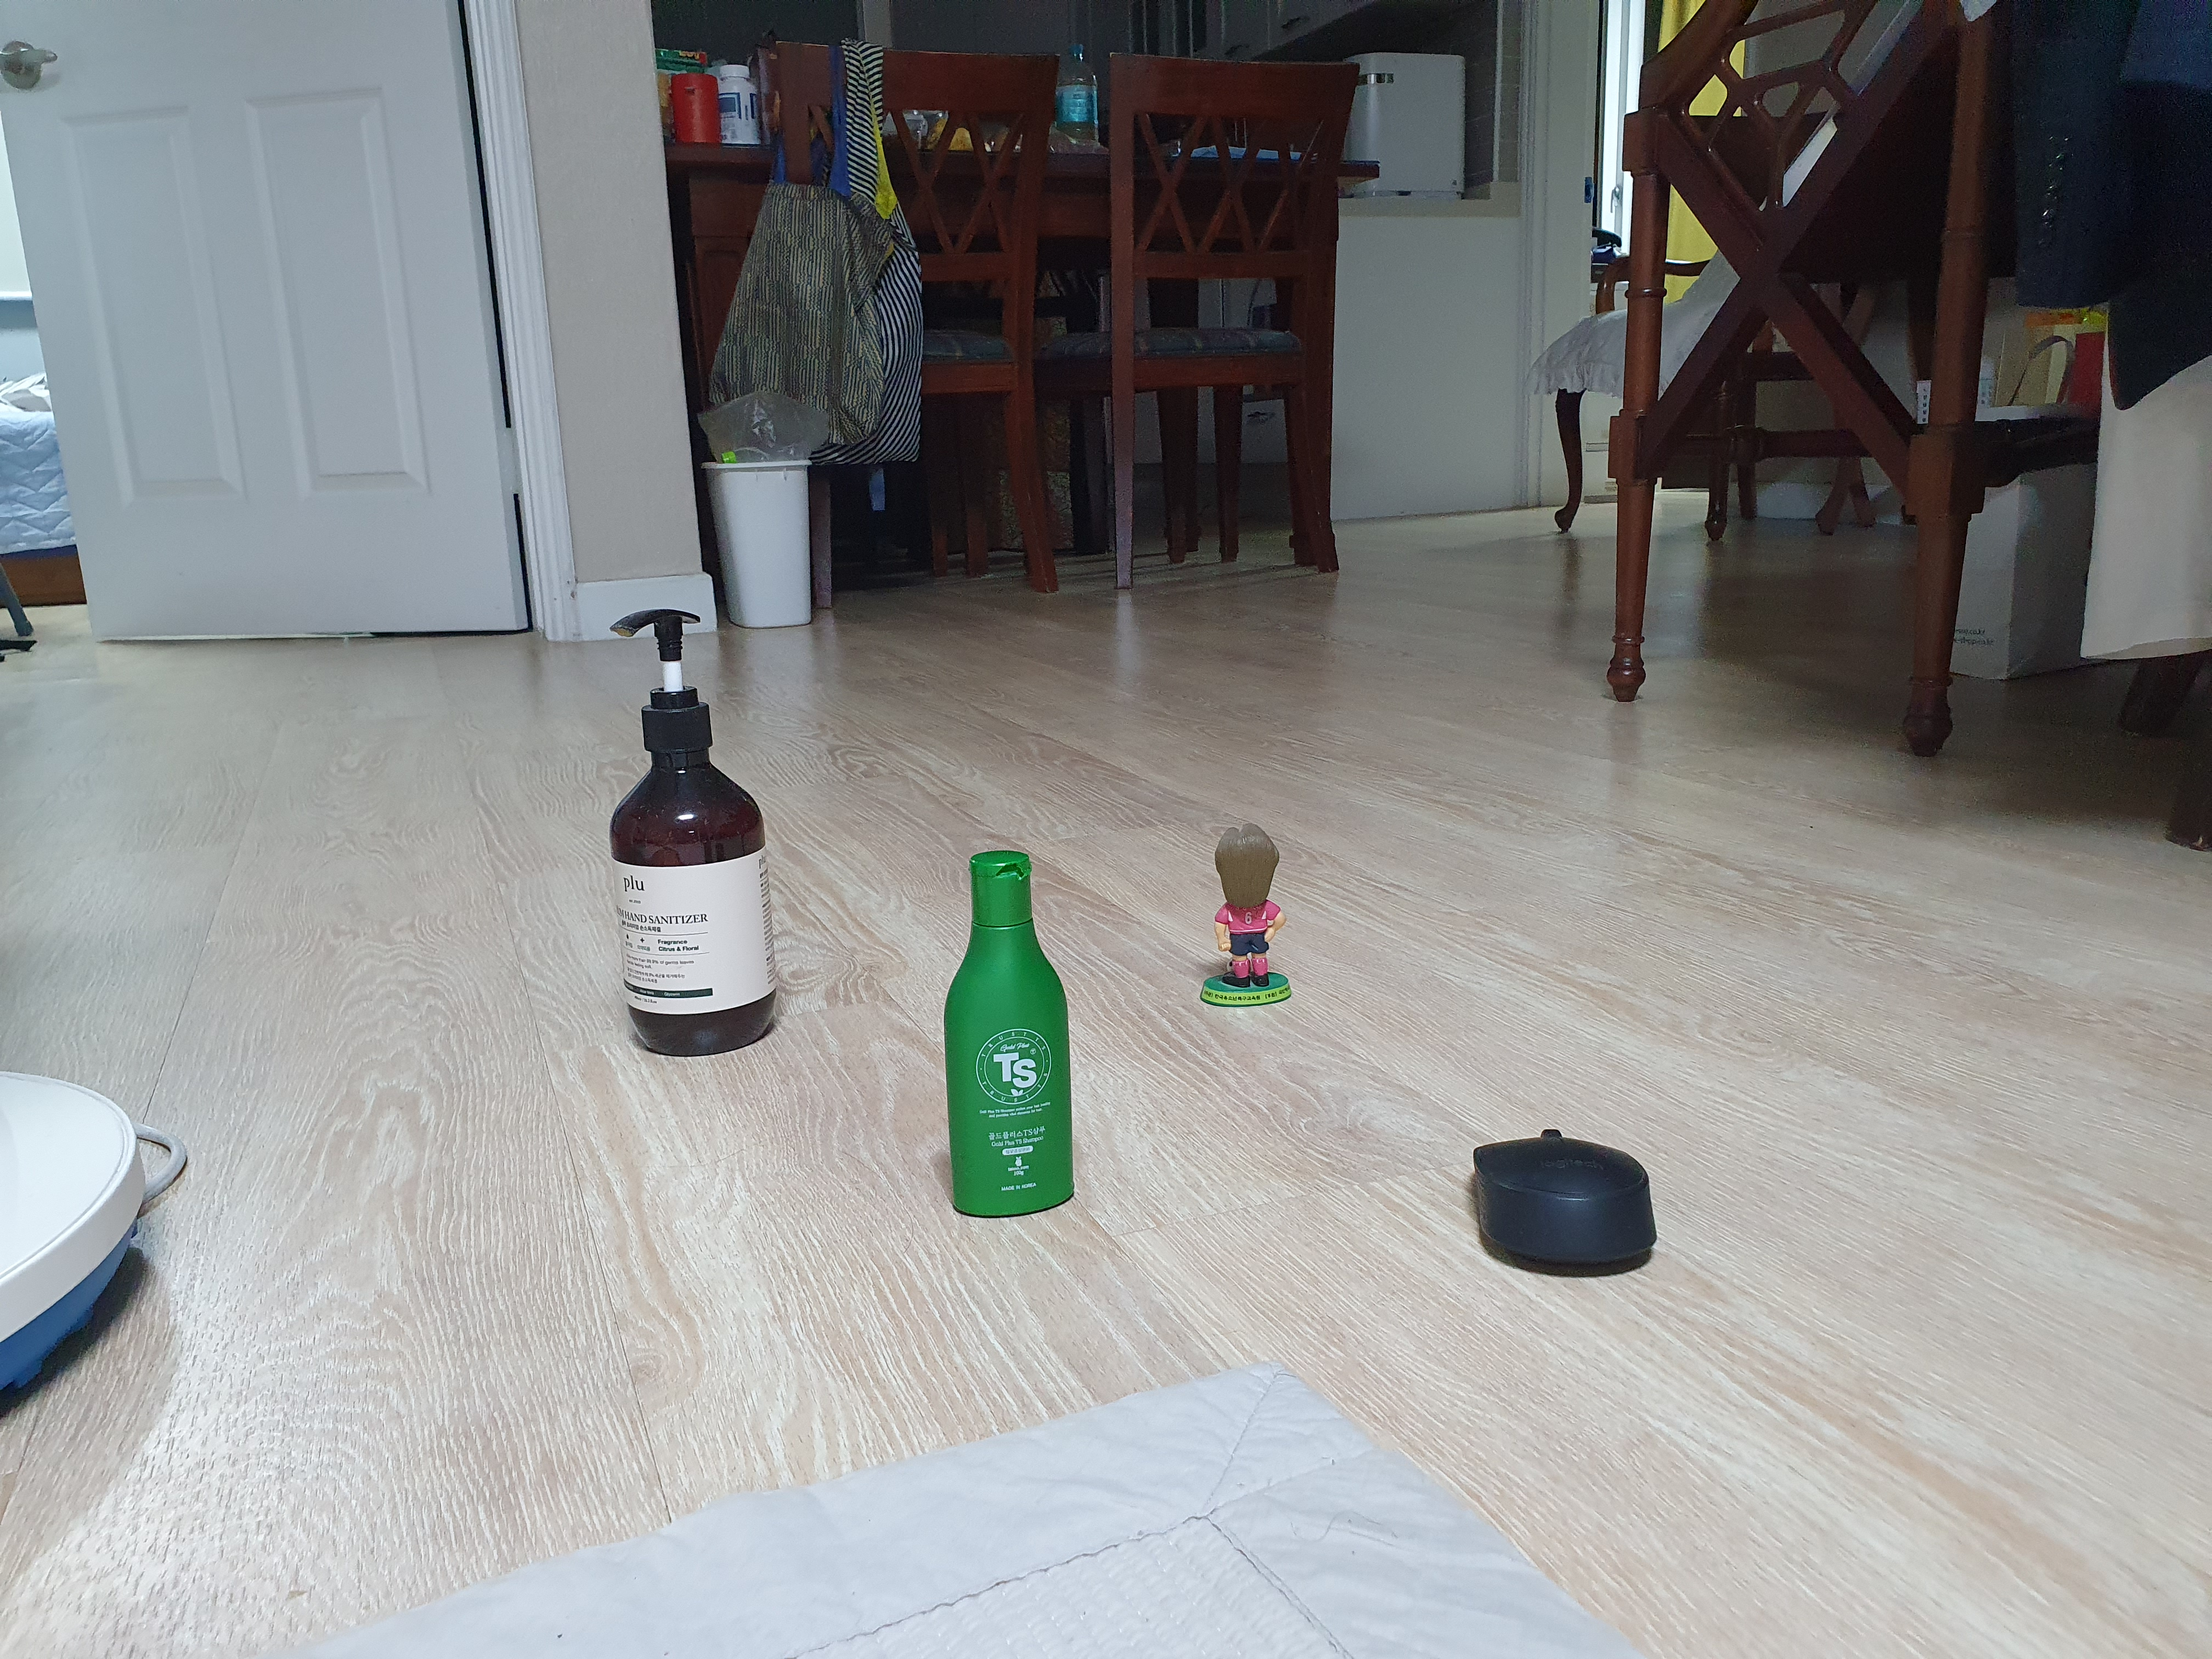bottle: (561, 599, 833, 1063)
mouse: (1440, 1124, 1695, 1298)
shampoo: (925, 840, 1115, 1225)
yoo: (1179, 810, 1329, 1023)
